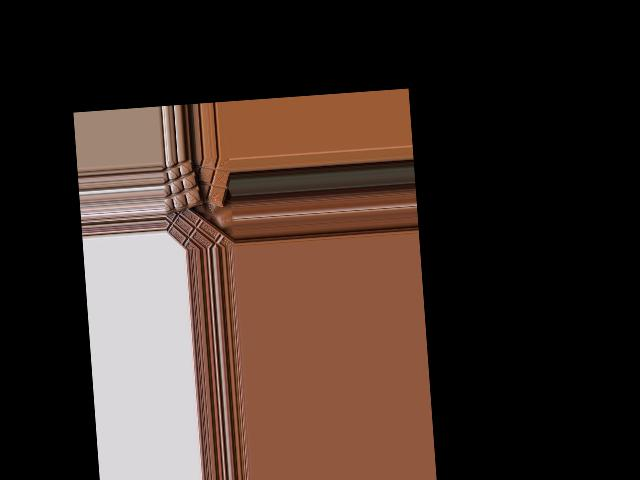chocolate: (185, 156, 228, 208)
